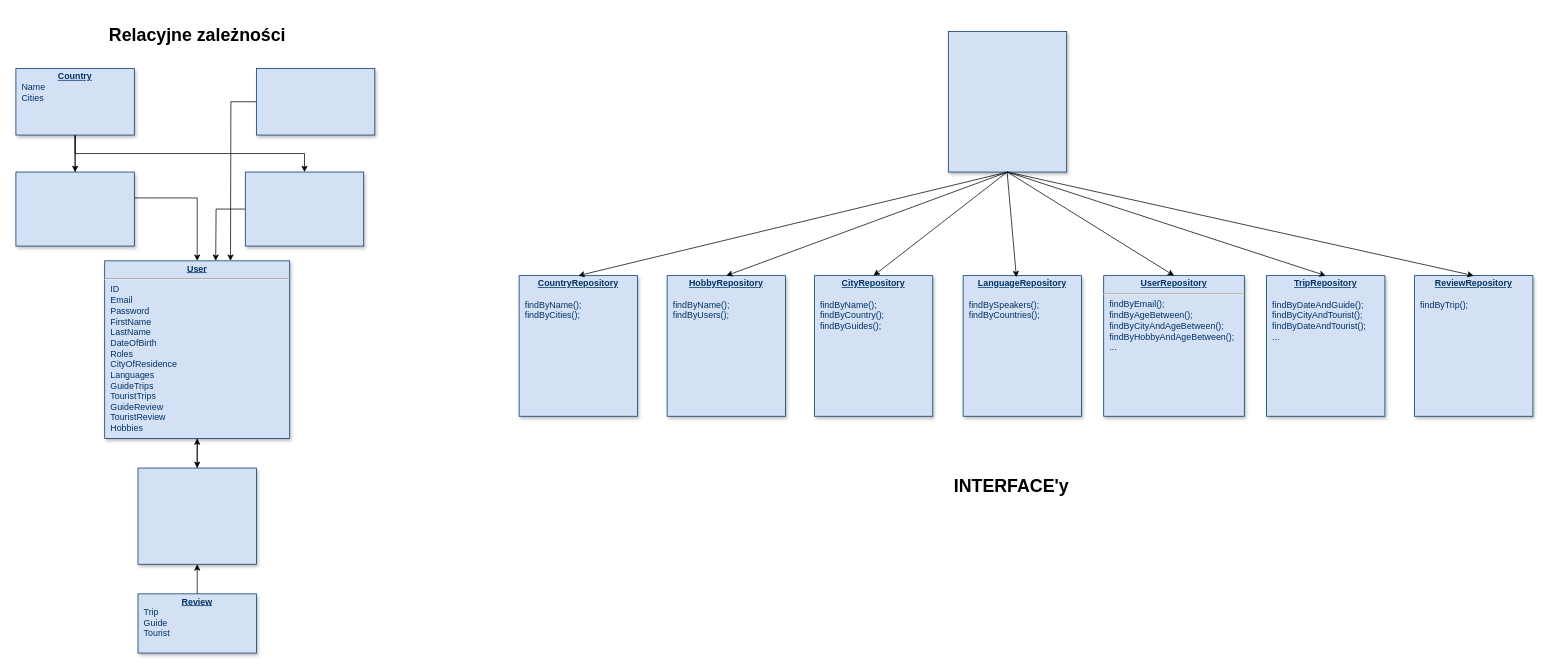
Some shapes in this 1550 by 672 pixel diagram are drawn without their labels. The centre of each missing label's shape, as x and y in pixels:
"City Name Country Guides" belongs at (x=75, y=209).
"Hobby Name" belongs at (x=316, y=102).
"JpaRepository" belongs at (x=1008, y=102).
"Language Name Countries" belongs at (x=305, y=209).
"Trip Date City Guide Tourist Review" belongs at (x=197, y=516).
